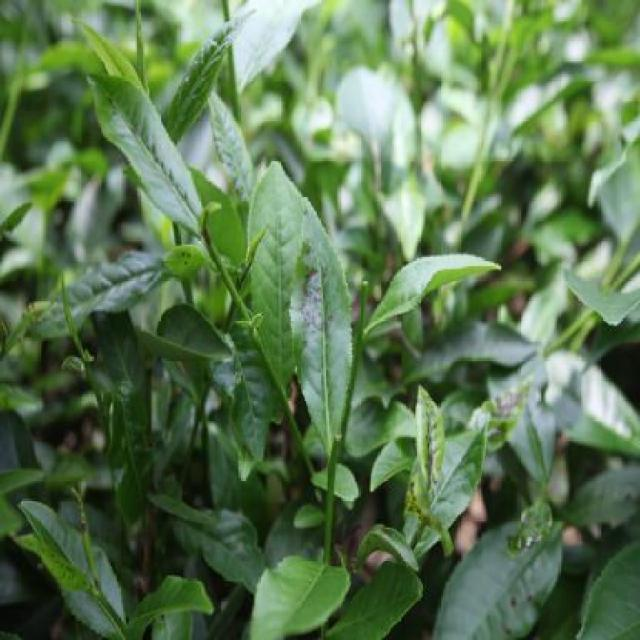Tea Mosquito bug infested leaf: (289, 156, 357, 444), (414, 369, 444, 526)
